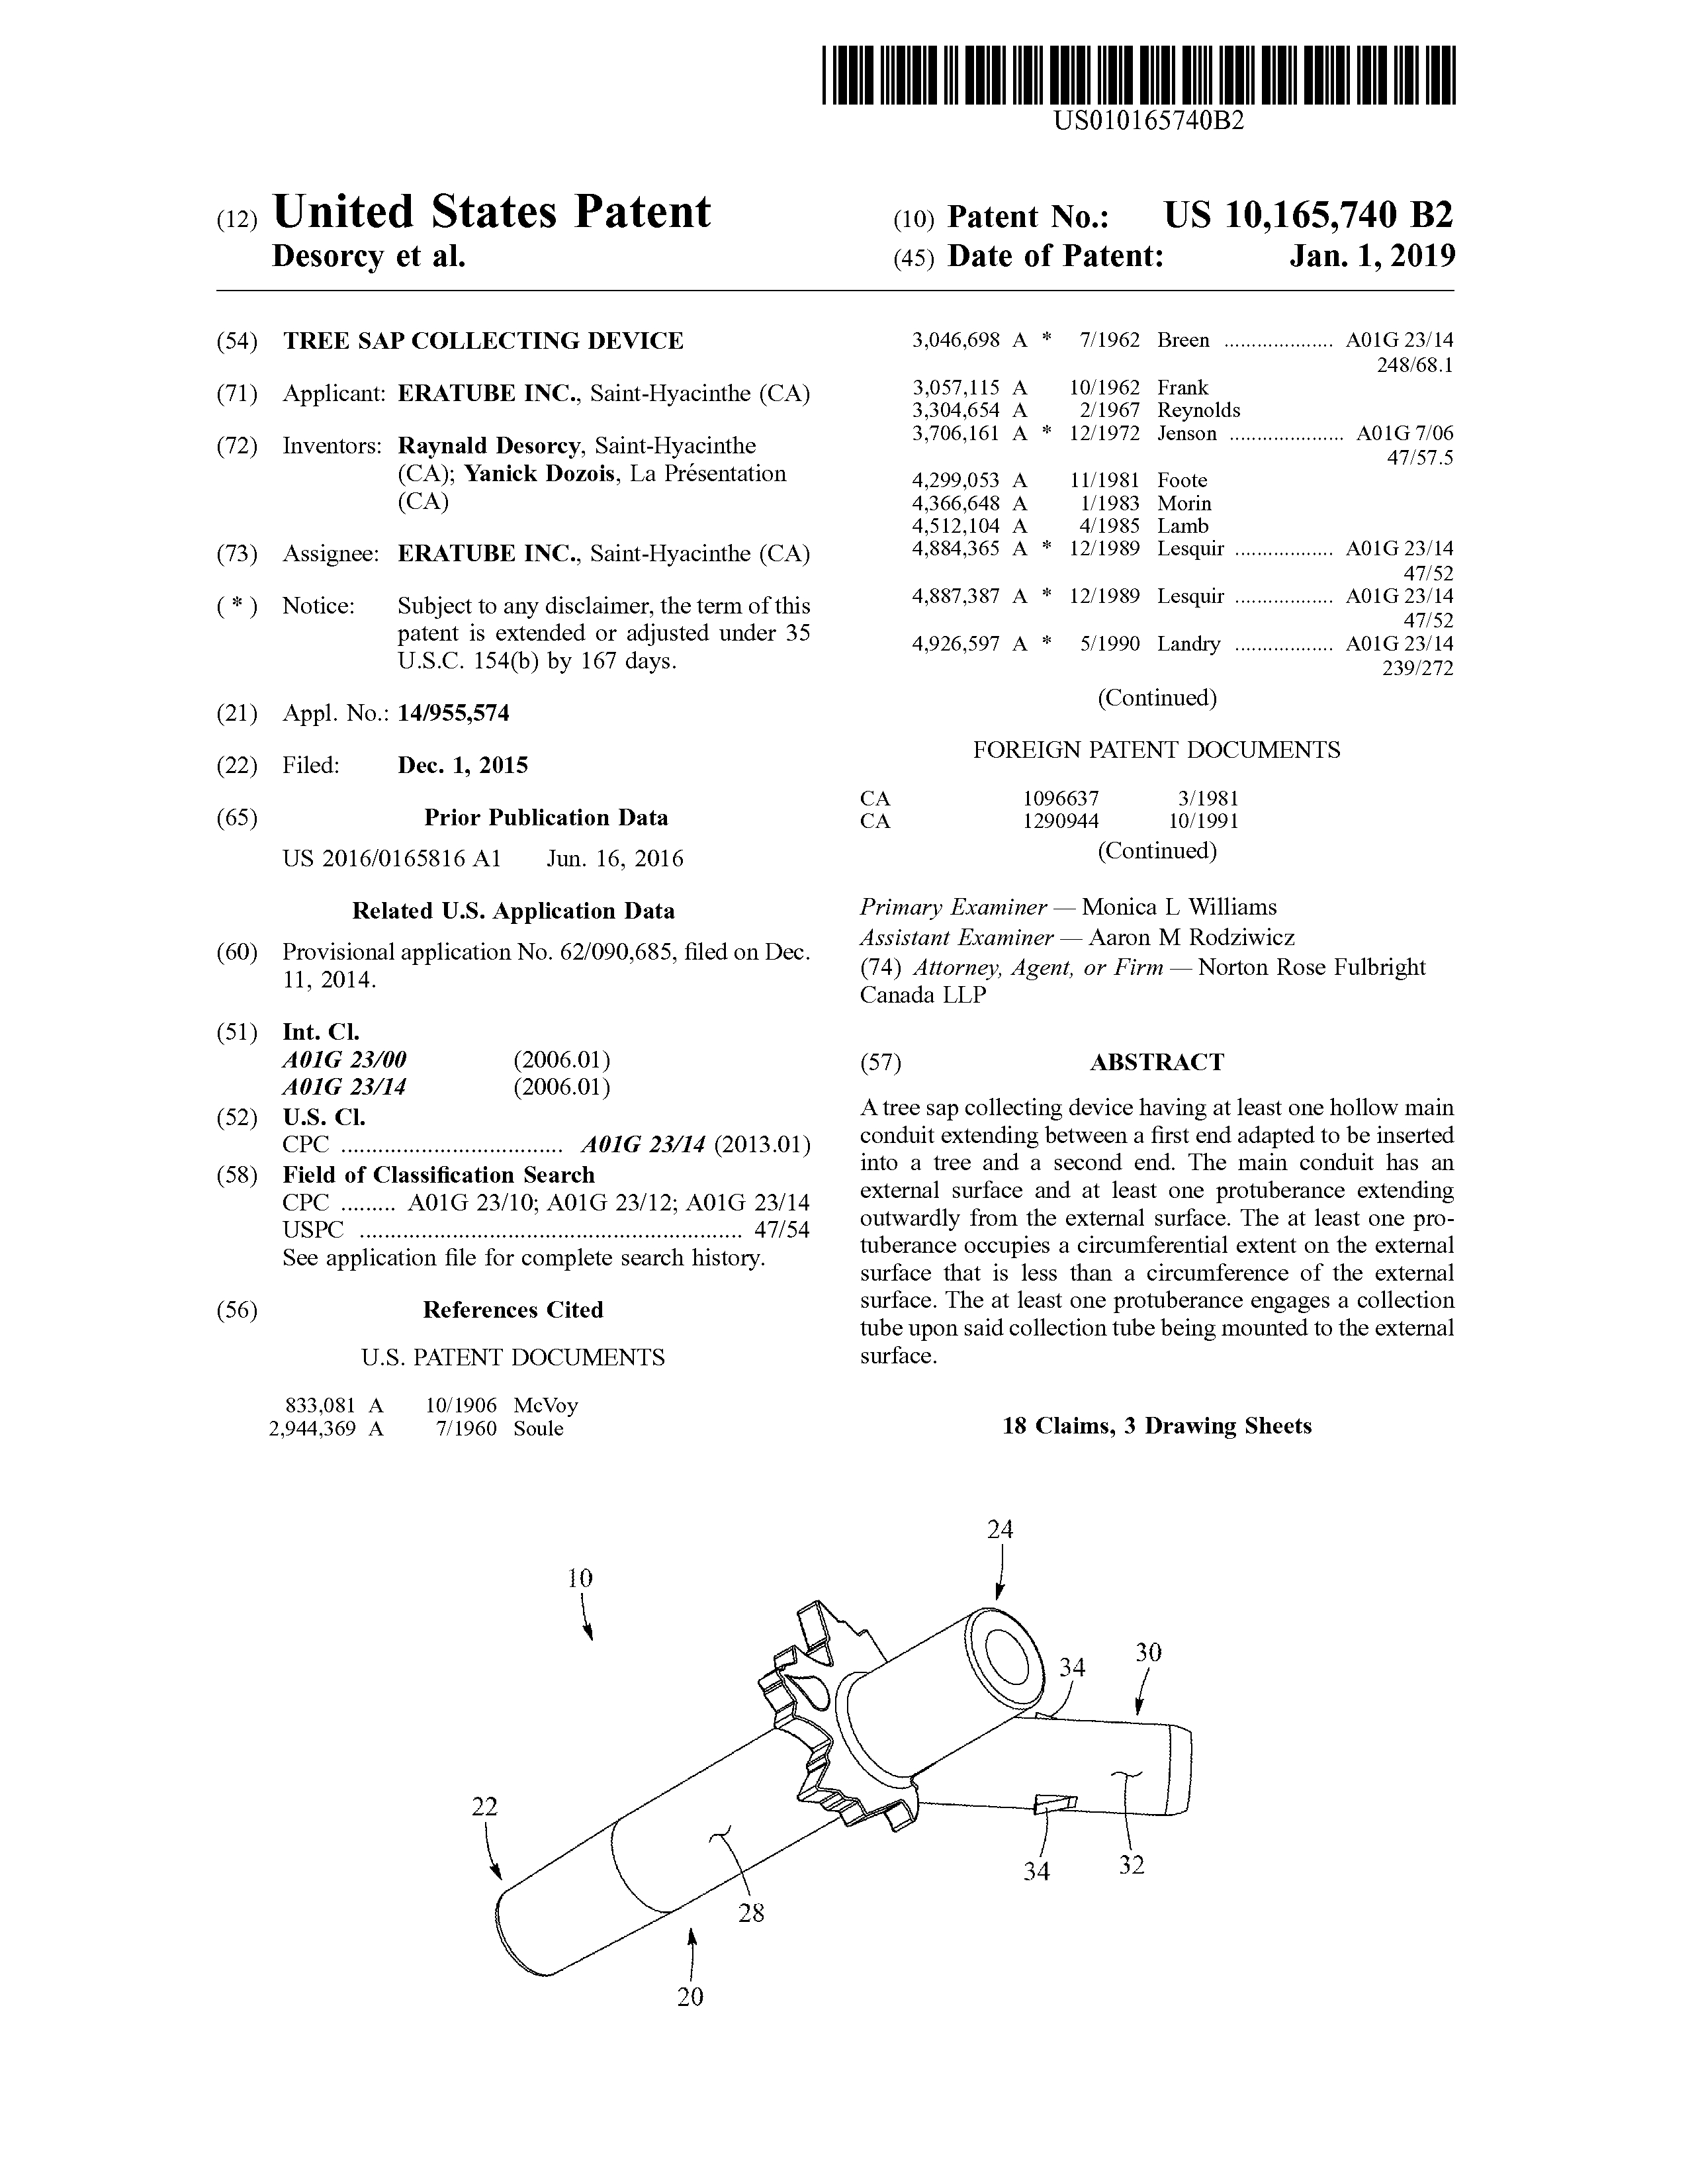patent image: (449, 1497, 1212, 2032)
